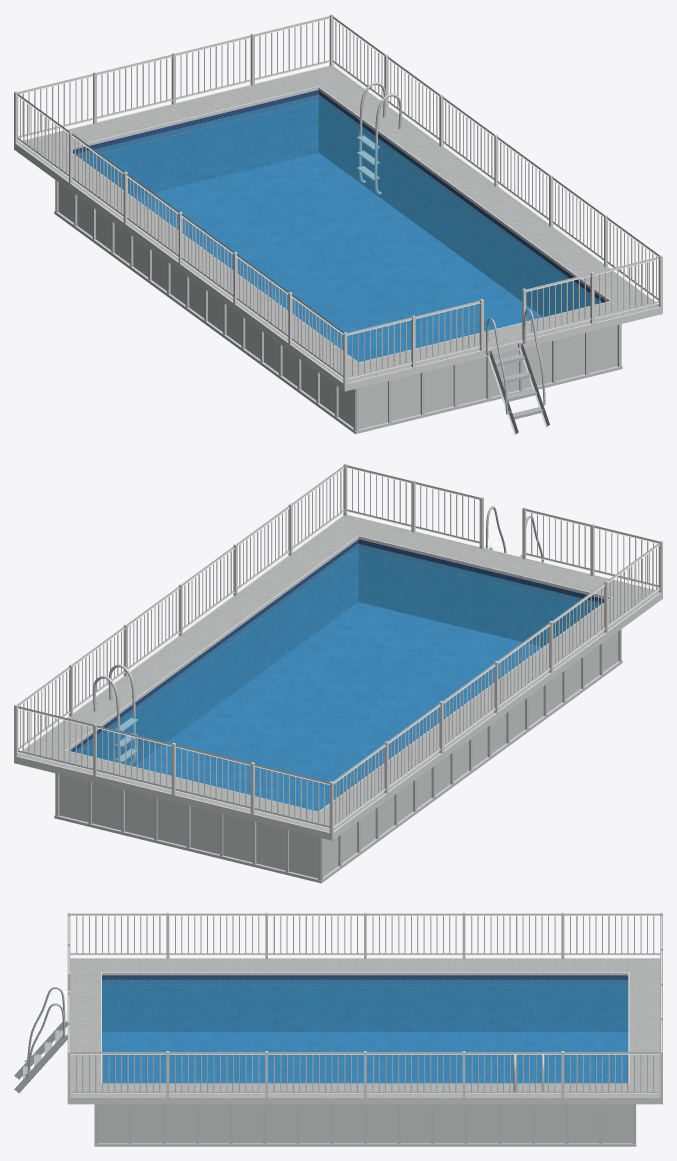
File: kayak-pool-16x32-white-walk-ag-fence.38e81511b3.glb
The picture shows the model from 3 angles, top to bottom: view 1: azimuth 30°, elevation 25°; view 2: azimuth 150°, elevation 25°; view 3: azimuth 270°, elevation 25°; orthographic projection. The views are drawn at different scales.
Parts seen in each view (by area): view 1: water, liner_floor, fence, liner_wall, deck, wall, fascia, upright, ladder, steel; view 2: water, liner_floor, fence, liner_wall, deck, wall, fascia, upright, steel; view 3: water, liner_wall, liner_floor, deck, wall, fence, fascia, upright, ladder.
Part boxes in pixels (x1,y1,x2,y2): water: (76, 94, 602, 361); liner_floor: (134, 153, 542, 361); fence: (14, 14, 662, 384); liner_wall: (73, 90, 606, 316); deck: (17, 66, 658, 382); wall: (58, 182, 617, 429); fascia: (14, 65, 662, 391); upright: (54, 180, 622, 434); ladder: (485, 309, 549, 434); steel: (357, 82, 401, 194); water: (74, 544, 600, 811); liner_floor: (134, 602, 542, 811); fence: (14, 463, 662, 833); liner_wall: (70, 539, 603, 766); deck: (18, 515, 659, 832); wall: (59, 632, 618, 878); fascia: (14, 514, 662, 840); upright: (54, 629, 622, 883); steel: (93, 664, 137, 765); water: (102, 979, 628, 1083); liner_wall: (102, 975, 628, 1031); liner_floor: (102, 1032, 628, 1083); deck: (70, 958, 660, 1097); wall: (98, 1104, 632, 1143); fence: (67, 912, 662, 1097); fascia: (67, 958, 662, 1104); upright: (94, 1104, 636, 1146); ladder: (14, 987, 67, 1093).
Size of the model in its own units: 6.1 by 2.15 by 11.96.
11 materials, 3 textured.
